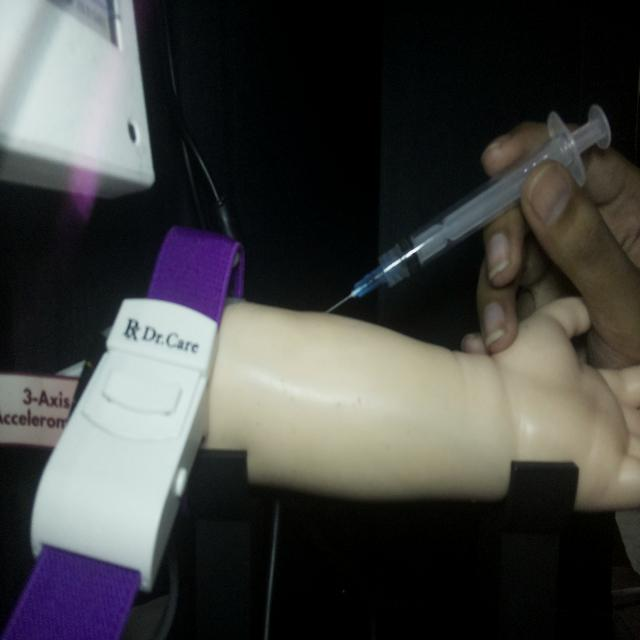27 degrees: (323, 100, 612, 316)
